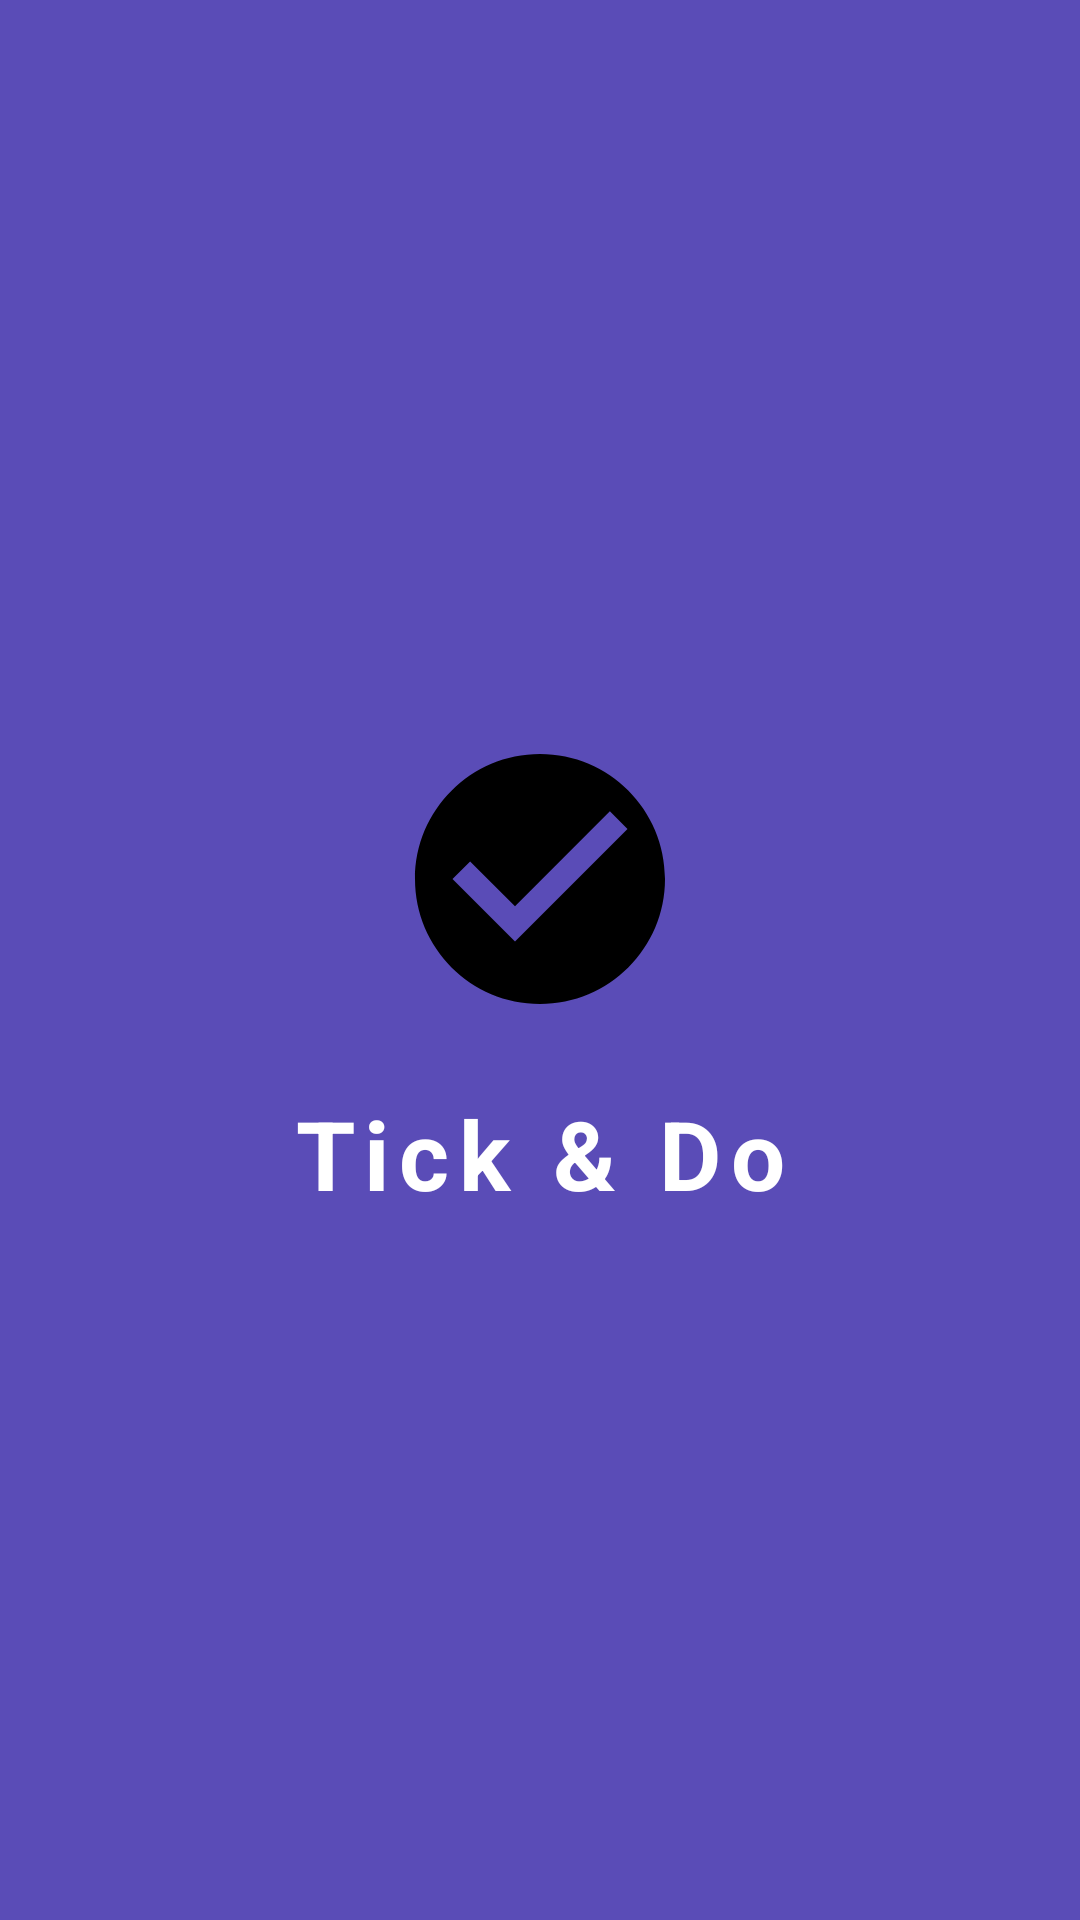

Icon click points for this 1080px×1920px phone screenshot, format point (x, y):
check circle: point (540, 879)
